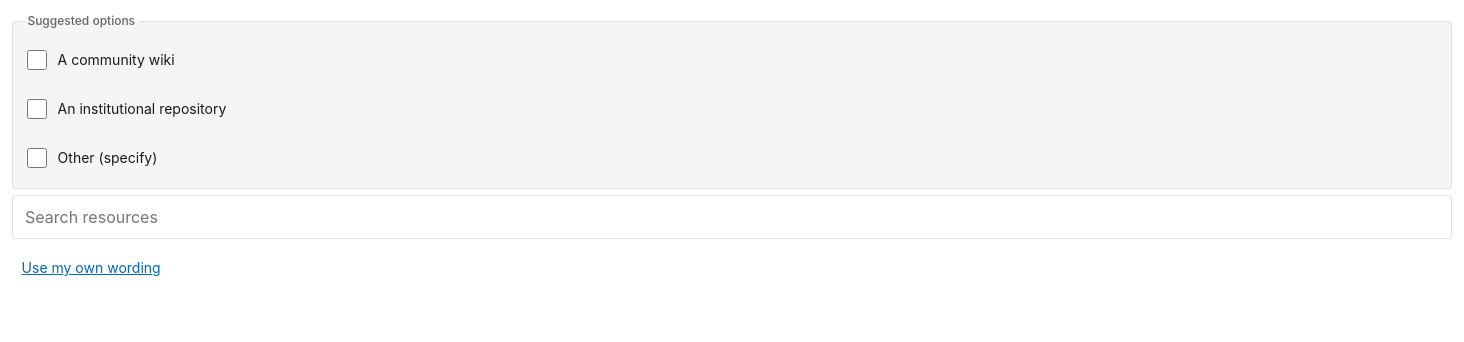
Test: FerPicker.vue — suggested phrases and "Other" (spec 08 §1.5 extension) › the "Other" add button is disabled while the input is empty
Click the checkbox labelled "Other (specify)".
click(37, 158)  # box [27, 148, 47, 168]
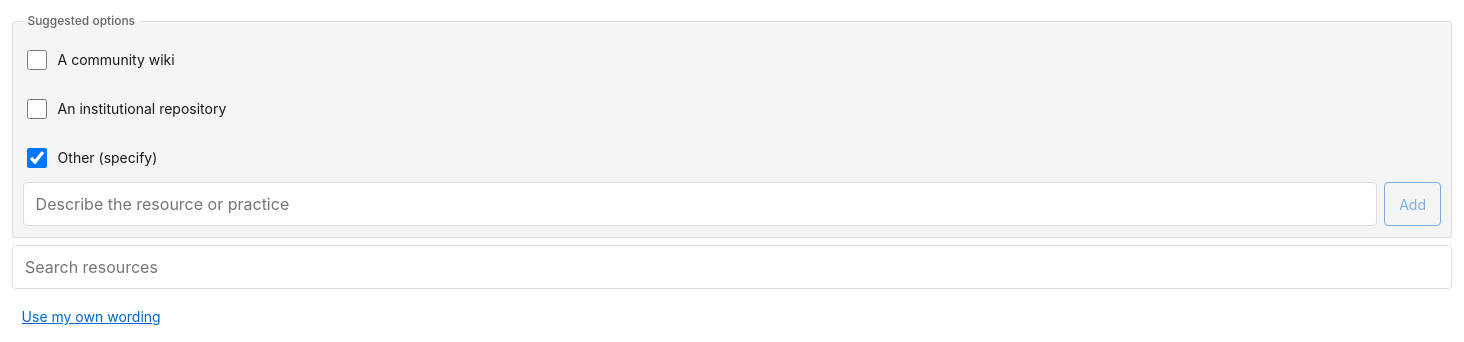
expect the button with class "other-add-btn" is disabled: met, box [1384, 182, 1441, 226]
